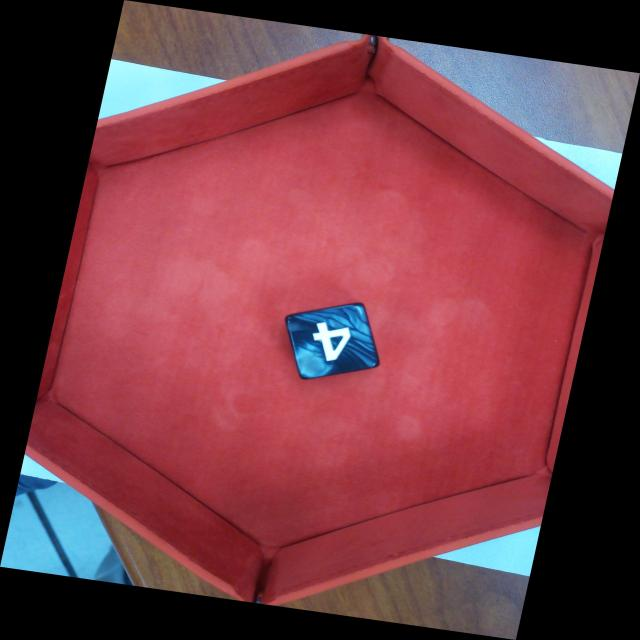dice: (284, 301, 382, 382)
